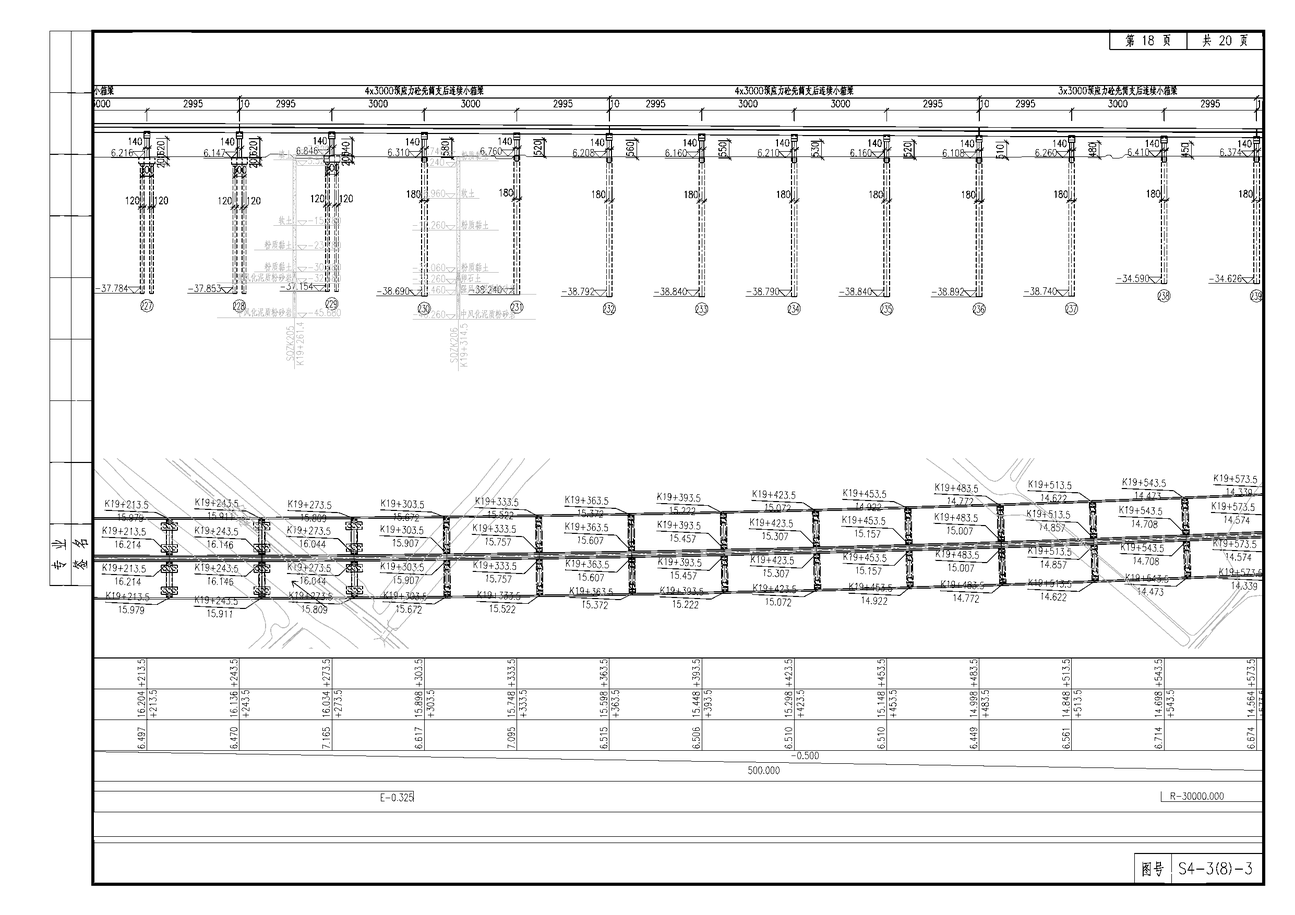A: (91, 72, 1269, 352)
